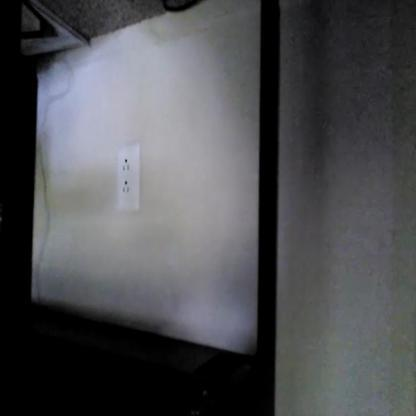OUTLET: (116, 143, 140, 214)
